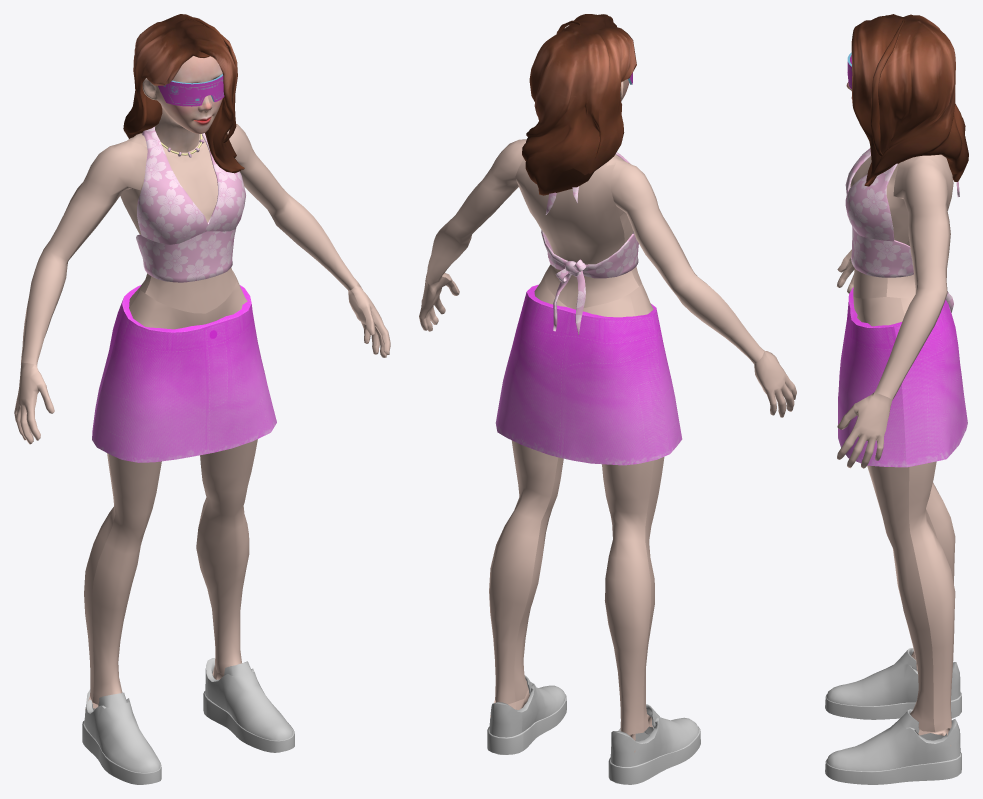
The model's file is jam.fbx.
3 renders of one model, left to right at view 1: azimuth 30°, elevation 25°; view 2: azimuth 150°, elevation 25°; view 3: azimuth 270°, elevation 25°, orthographic.
Parts seen in each view (by area): view 1: Wolf3D_Body, Wolf3D_Outfit_Bottom, Wolf3D_Outfit_Top, Wolf3D_Outfit_Footwear, hair:Wolf3D_Hair, Wolf3D_Head, Wolf3D_Glasses; view 2: Wolf3D_Body, Wolf3D_Outfit_Bottom, hair:Wolf3D_Hair, Wolf3D_Outfit_Footwear, Wolf3D_Outfit_Top; view 3: Wolf3D_Body, hair:Wolf3D_Hair, Wolf3D_Outfit_Bottom, Wolf3D_Outfit_Footwear, Wolf3D_Outfit_Top.
Part boxes in pixels (left/top/right/bottom): Wolf3D_Body: left=14, top=123, right=390, bottom=709; Wolf3D_Outfit_Bottom: left=92, top=285, right=276, bottom=462; Wolf3D_Outfit_Top: left=136, top=126, right=245, bottom=282; Wolf3D_Outfit_Footwear: left=82, top=658, right=294, bottom=784; hair:Wolf3D_Hair: left=123, top=14, right=244, bottom=173; Wolf3D_Head: left=142, top=56, right=222, bottom=152; Wolf3D_Glasses: left=158, top=74, right=224, bottom=106; Wolf3D_Body: left=419, top=139, right=796, bottom=752; Wolf3D_Outfit_Bottom: left=495, top=284, right=682, bottom=465; hair:Wolf3D_Hair: left=522, top=14, right=636, bottom=195; Wolf3D_Outfit_Footwear: left=487, top=675, right=700, bottom=784; Wolf3D_Outfit_Top: left=541, top=152, right=638, bottom=334; Wolf3D_Body: left=837, top=154, right=955, bottom=745; hair:Wolf3D_Hair: left=851, top=14, right=968, bottom=186; Wolf3D_Outfit_Bottom: left=838, top=287, right=967, bottom=467; Wolf3D_Outfit_Footwear: left=825, top=648, right=961, bottom=784; Wolf3D_Outfit_Top: left=845, top=148, right=959, bottom=312.
Size of the model in its own units: 92.79 by 175 by 31.51.
